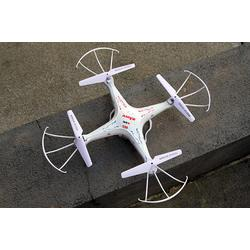drone: (40, 47, 213, 204)
